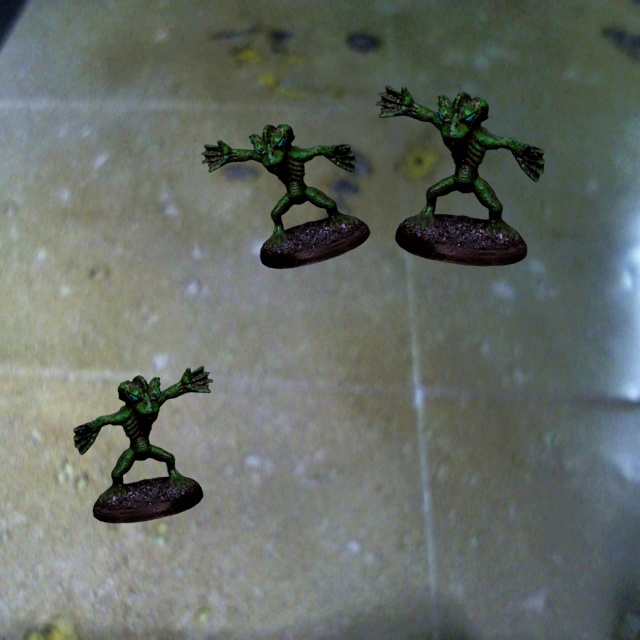pieza_juego: (375, 85, 544, 265), (201, 124, 369, 268), (73, 366, 212, 523)
